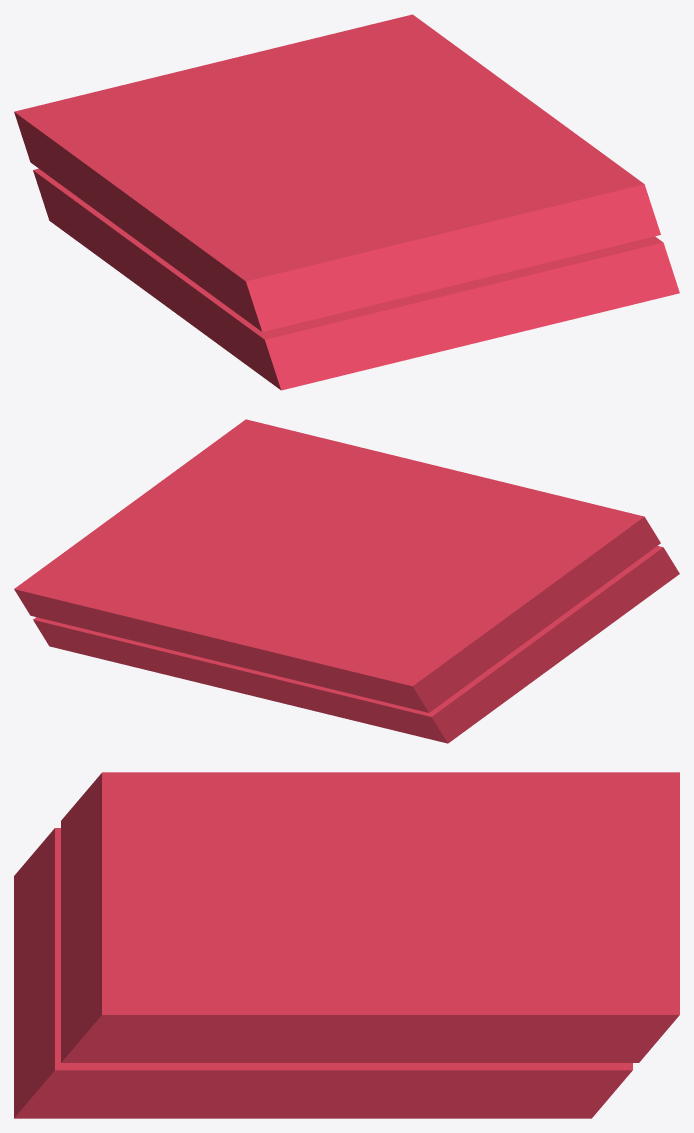
Rendered from Itr_Obj_Console_03.FBX.
3 renders of one model, top to bottom at view 1: azimuth 30°, elevation 25°; view 2: azimuth 150°, elevation 25°; view 3: azimuth 270°, elevation 25°, orthographic. The views are drawn at different scales.
Parts seen in each view (by area): view 1: Itr_Obj_Console_03; view 2: Itr_Obj_Console_03; view 3: Itr_Obj_Console_03.
Part boxes in pixels (x1,y1,x2,y2): Itr_Obj_Console_03: (14, 14, 679, 390); Itr_Obj_Console_03: (14, 419, 679, 743); Itr_Obj_Console_03: (14, 772, 679, 1118).
Size of the model in its own units: 11.52 by 2.3 by 13.37.
